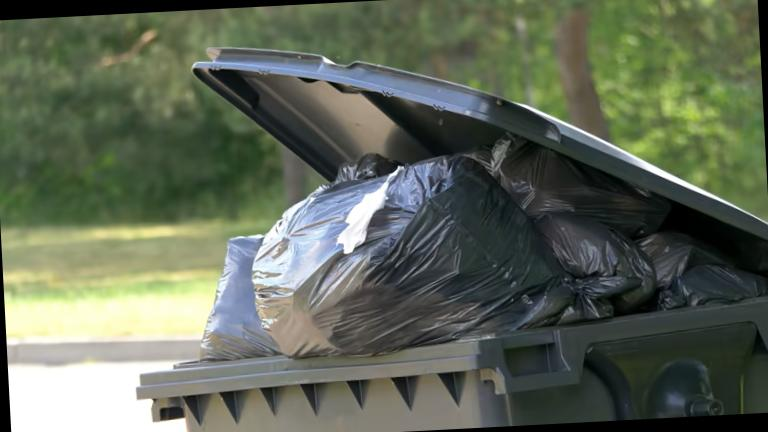trash: (170, 122, 754, 364)
trash_can_overflow: (104, 0, 768, 432)
